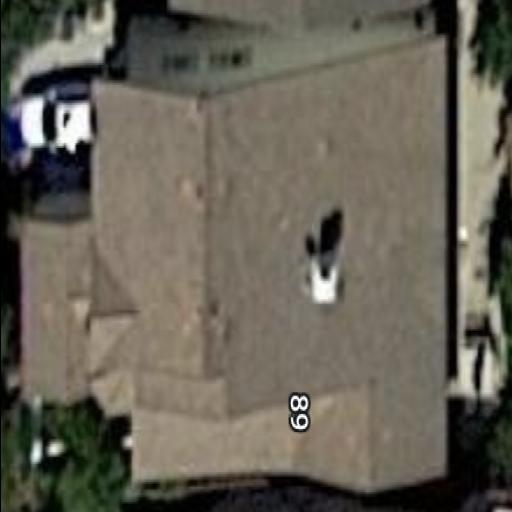Slope-Roof: (20, 36, 444, 498)
